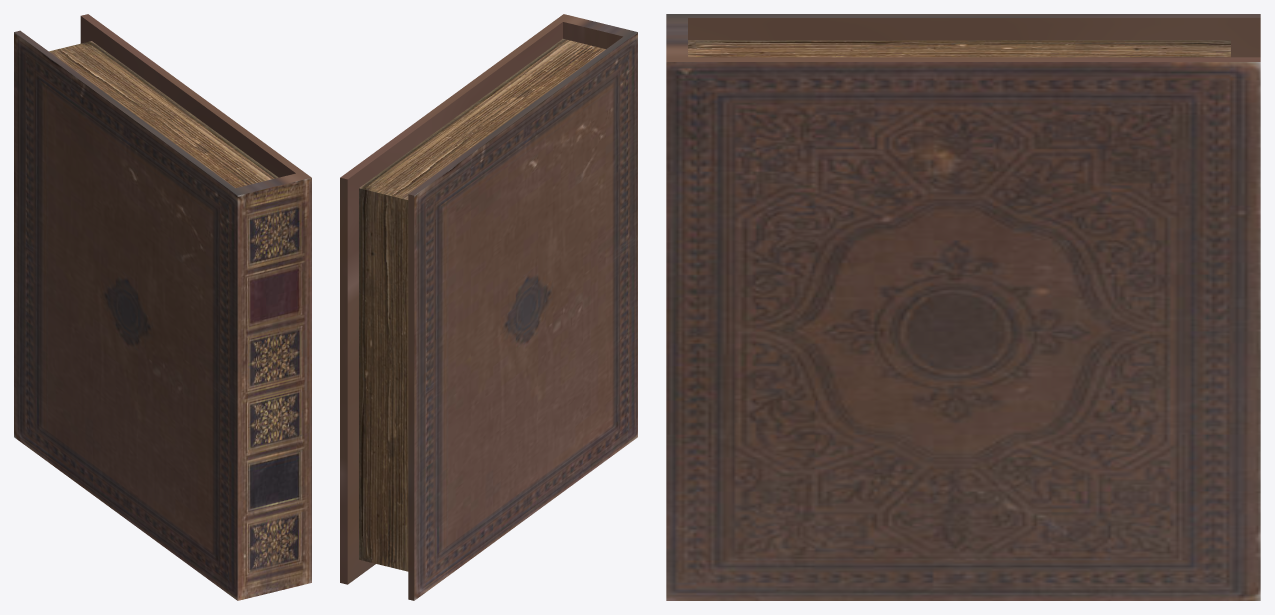
File: Livre_V2.fbx
The picture shows the model from 3 angles, left to right: view 1: azimuth 30°, elevation 25°; view 2: azimuth 150°, elevation 25°; view 3: azimuth 270°, elevation 25°; orthographic projection. The views are drawn at different scales.
Parts seen in each view (by area): view 1: Cube.009; view 2: Cube.009; view 3: Cube.009.
Boxes of the visible parts, x1,y1,x2,y2 form: Cube.009: [14, 14, 311, 600]; Cube.009: [340, 14, 637, 600]; Cube.009: [666, 14, 1260, 600].
Bounding box in the file's own units: 38.27 × 200 × 200.
